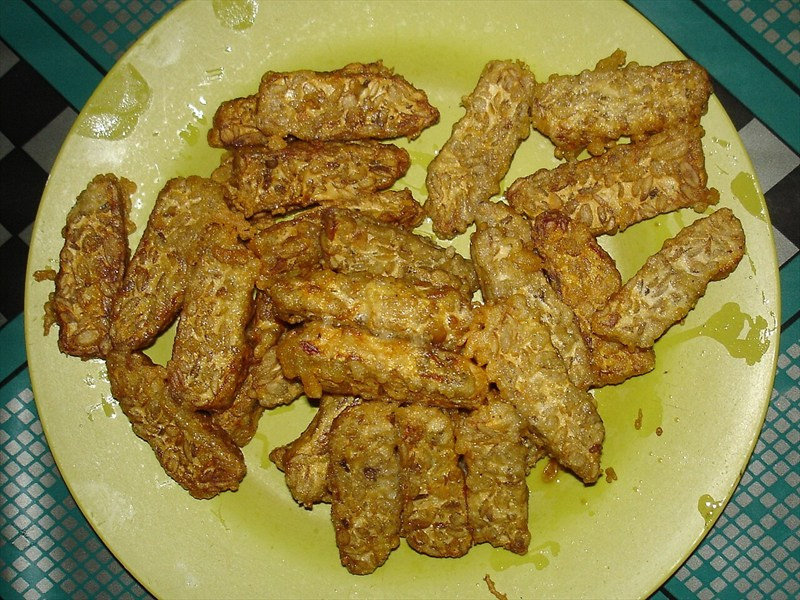Tempe Goreng: (97, 84, 698, 491)
